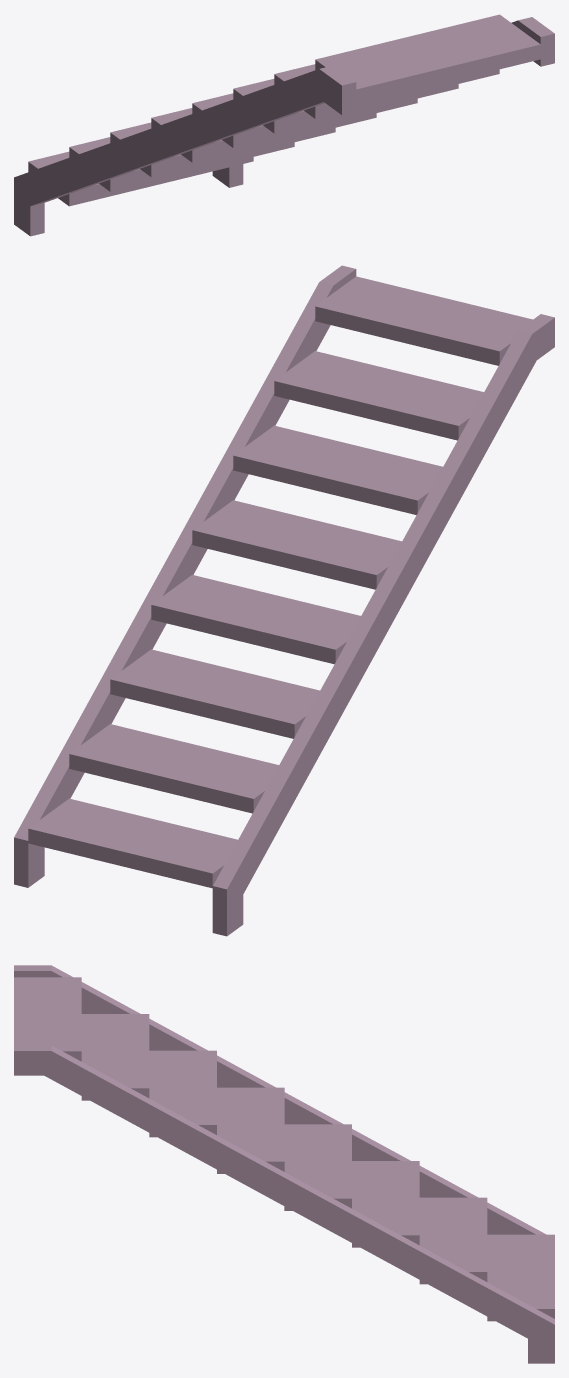
File: stairs-sides.obj
3 renders of one model, top to bottom at view 1: azimuth 30°, elevation 25°; view 2: azimuth 150°, elevation 25°; view 3: azimuth 270°, elevation 25°, orthographic. The views are drawn at different scales.
Bounding box in the file's own units: 1.5 × 2.55 × 4.
